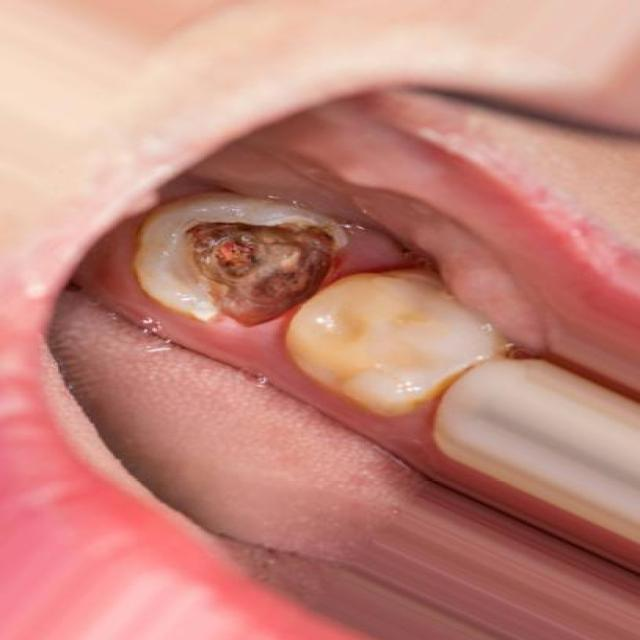caries: (155, 195, 365, 336)
